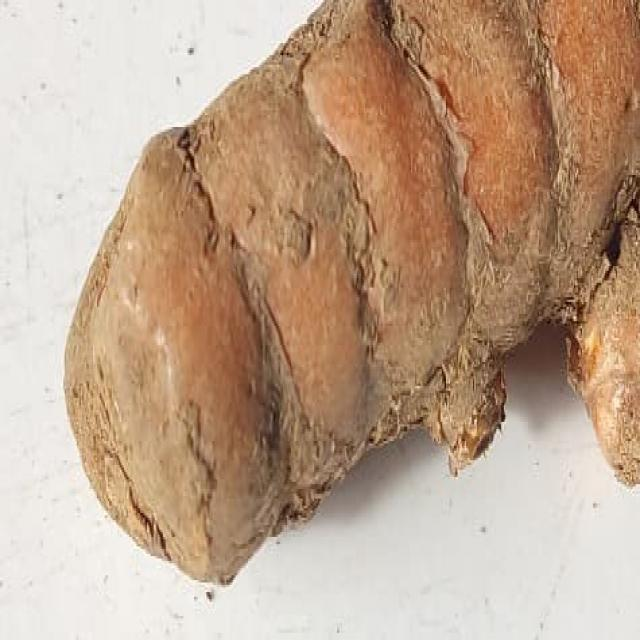ginger: (69, 17, 640, 568)
